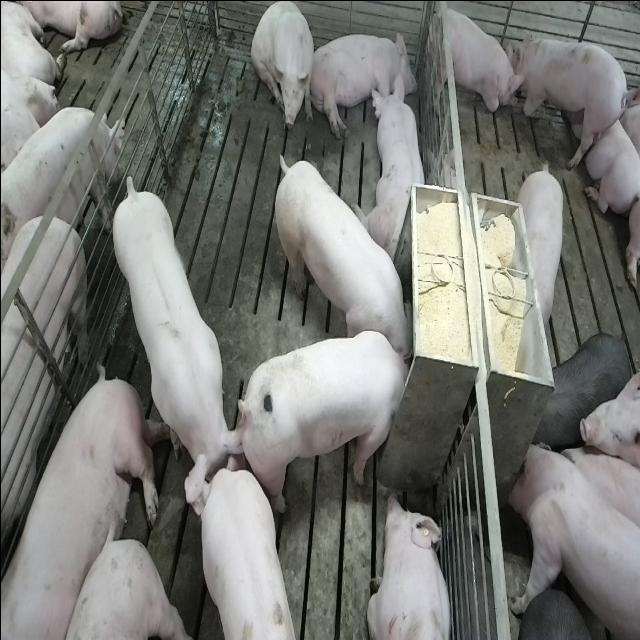Feeding: (243, 329, 420, 513), (270, 145, 410, 359)
Lateral_lying: (307, 27, 417, 140)
Sitting: (423, 0, 518, 126), (250, 3, 316, 137)
Standing: (110, 170, 246, 512), (0, 206, 89, 588), (505, 438, 638, 640), (190, 463, 300, 640), (0, 101, 120, 252), (511, 28, 627, 167), (535, 329, 629, 448), (517, 158, 566, 336)
Sternal_lying: (366, 490, 454, 640), (360, 75, 431, 259), (566, 84, 639, 212)
